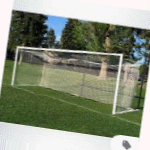goals: (9, 45, 136, 116)
